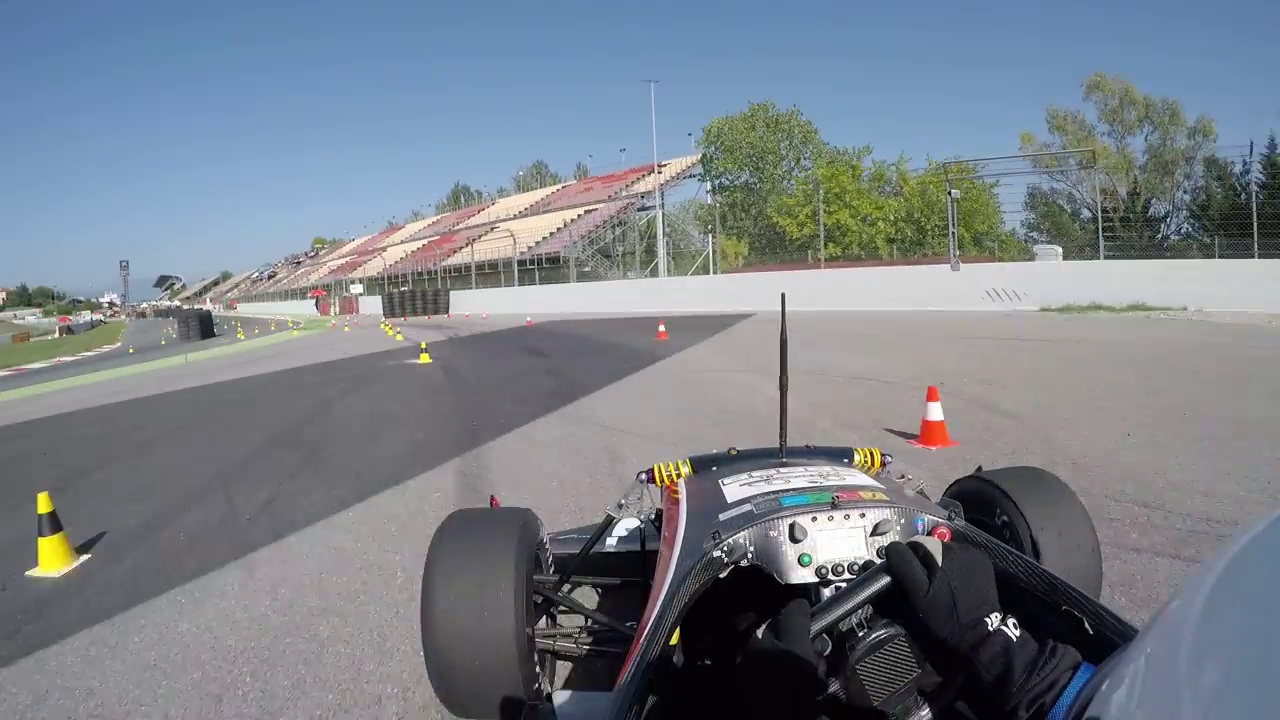Cone: (26, 488, 84, 579), (909, 382, 961, 449)
